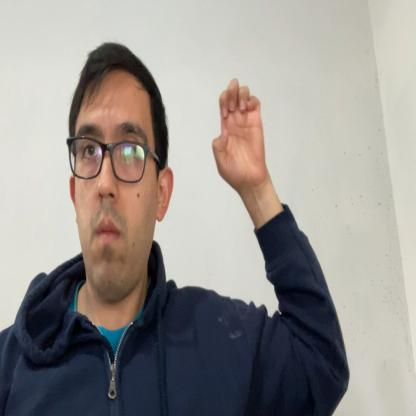E: (211, 77, 266, 192)
